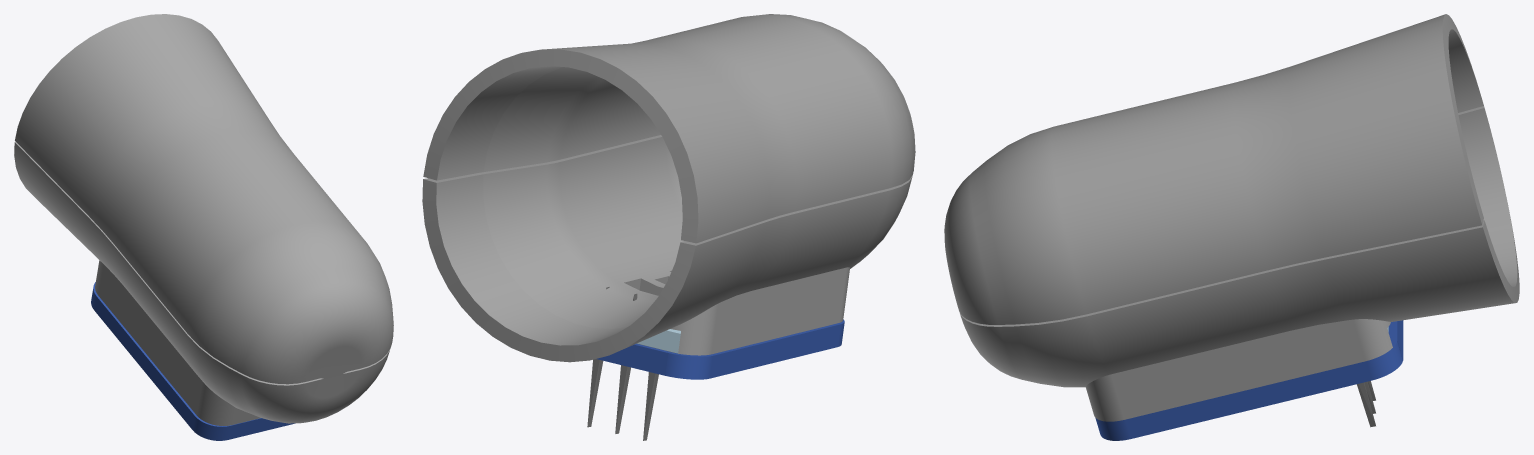
The model's file is oriolololol.dae.
3 views of the same model, side by side, from view 1: azimuth 30°, elevation 25°; view 2: azimuth 150°, elevation 25°; view 3: azimuth 270°, elevation 25° (orthographic). The views are drawn at different scales.
Visible parts, largest first — view 1: Part 1, Part 2; view 2: Part 1, Part 2, Part 5, ID11, ID123, ID74; view 3: Part 1, Part 2.
Boxes of the visible parts, <box> form: Part 1: <box>14,14,393,425</box>; Part 2: <box>91,282,295,440</box>; Part 1: <box>422,14,915,362</box>; Part 2: <box>597,319,844,379</box>; Part 5: <box>637,329,680,353</box>; ID11: <box>643,372,658,440</box>; ID123: <box>615,365,630,433</box>; ID74: <box>587,359,603,427</box>; Part 1: <box>944,14,1519,421</box>; Part 2: <box>1095,320,1403,440</box>.
Bounding box in the file's own units: 0.0268 × 0.0517 × 0.0383.
